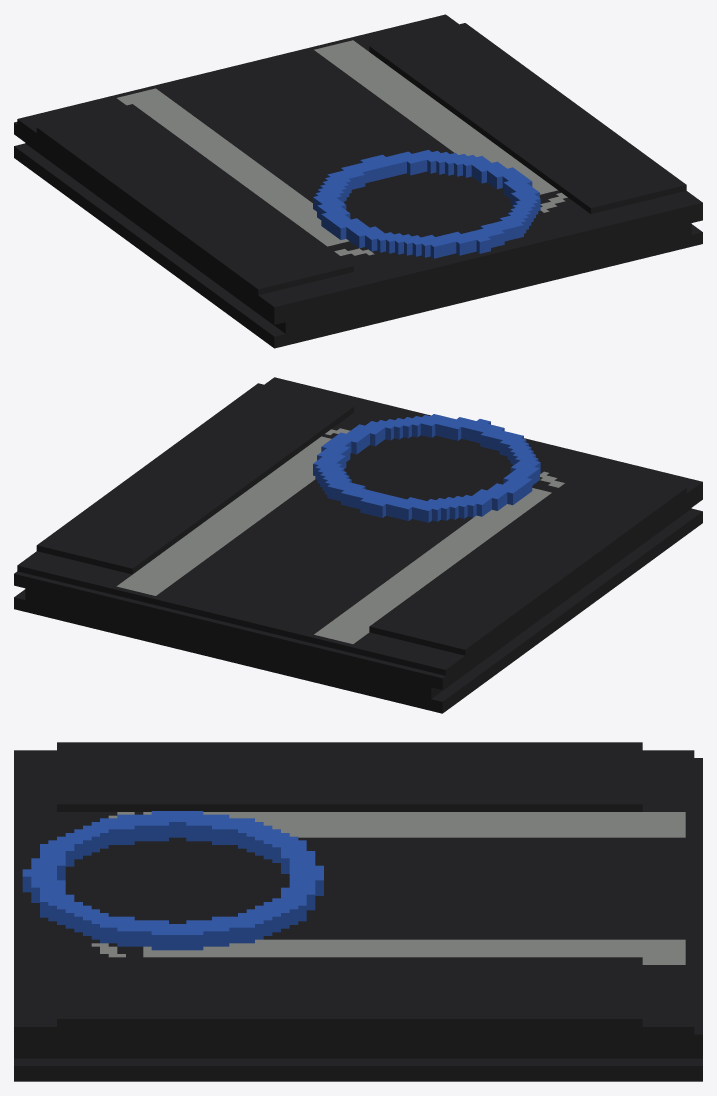
File: wetsuit_top_sleeved_thin.glb
3 renders of one model, top to bottom at view 1: azimuth 30°, elevation 25°; view 2: azimuth 150°, elevation 25°; view 3: azimuth 270°, elevation 25°, orthographic. The views are drawn at different scales.
Visible parts, largest first — view 1: wetsuit_top_sleeved_thin:compound; view 2: wetsuit_top_sleeved_thin:compound; view 3: wetsuit_top_sleeved_thin:compound.
Boxes of the visible parts, x1,y1,x2,y2 form: wetsuit_top_sleeved_thin:compound: (14, 14, 702, 348); wetsuit_top_sleeved_thin:compound: (14, 377, 702, 713); wetsuit_top_sleeved_thin:compound: (14, 742, 702, 1081).
Bounding box in the file's own units: 0.304 × 0.036 × 0.32.
